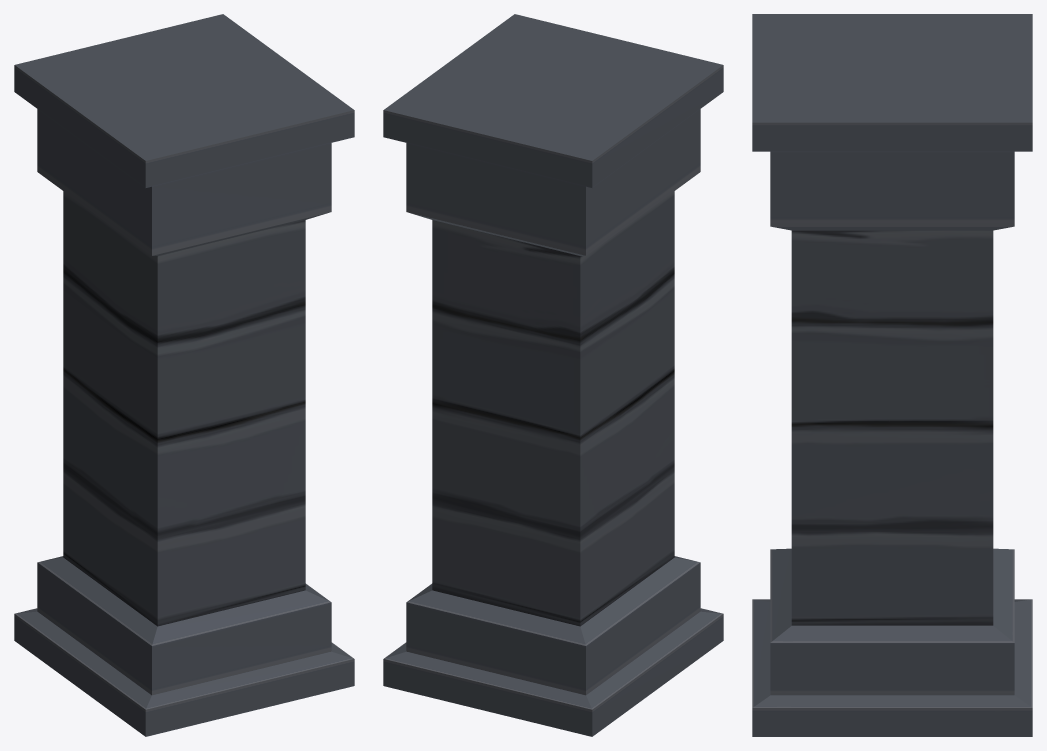
The model's file is Pillar_Center_01.fbx.
3 renders of one model, left to right at view 1: azimuth 30°, elevation 25°; view 2: azimuth 150°, elevation 25°; view 3: azimuth 270°, elevation 25°, orthographic. The views are drawn at different scales.
Visible parts, largest first — view 1: Pillar_Center_01; view 2: Pillar_Center_01; view 3: Pillar_Center_01.
Boxes of the visible parts, x1,y1,x2,y2 form: Pillar_Center_01: (14, 14, 354, 736); Pillar_Center_01: (383, 14, 723, 736); Pillar_Center_01: (752, 14, 1032, 736).
Size of the model in its own units: 29.84 by 78.68 by 32.51.
